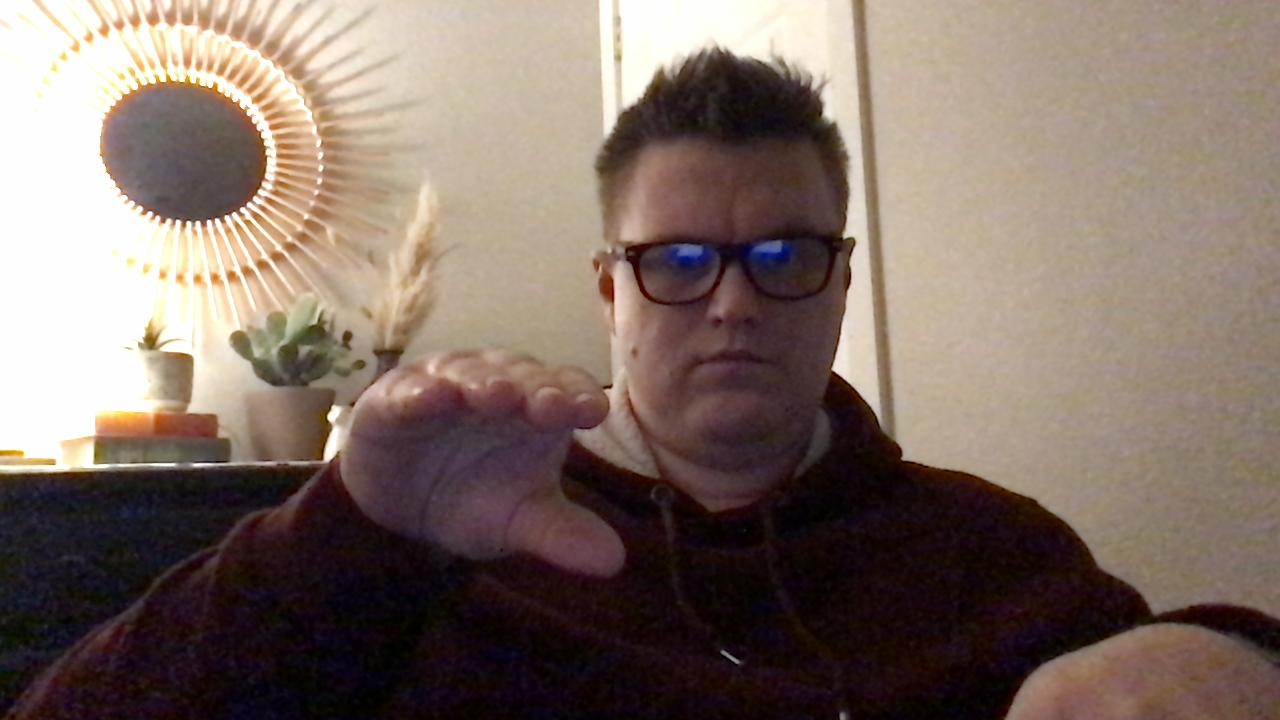no: (341, 339, 642, 598)
